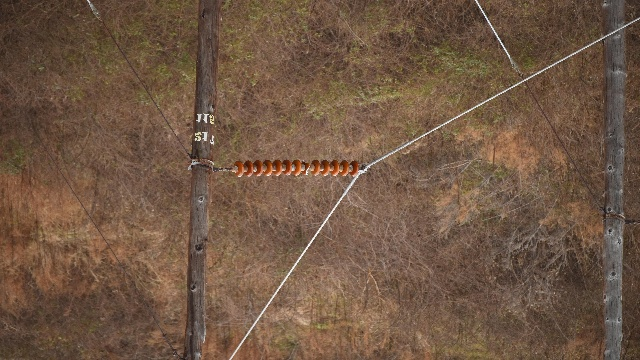broken_local: (302, 159, 310, 176)
insulator_unspecified: (235, 160, 359, 176)
